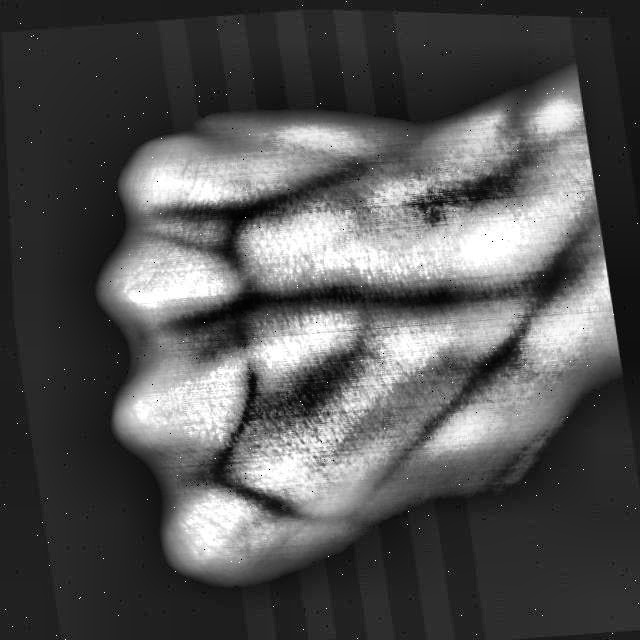Vein: (273, 276, 513, 311)
